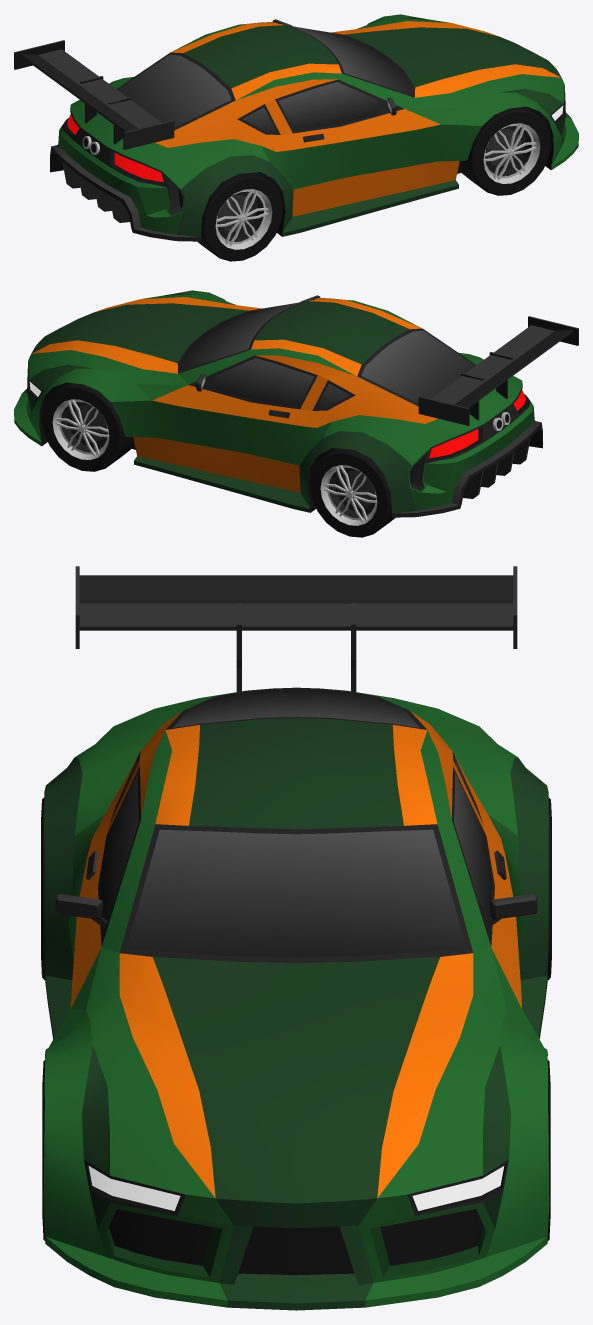
Rendered from Car_128.glb.
3 views of the same model, one above another, from view 1: azimuth 30°, elevation 25°; view 2: azimuth 150°, elevation 25°; view 3: azimuth 270°, elevation 25° (orthographic). The views are drawn at different scales.
Parts seen in each view (by area): view 1: Car_128, wheel_1_Car_128_Wheel_1R, wheel_3_Car_128_Wheel_2R; view 2: Car_128, wheel_0_Car_128_Wheel_1L, wheel_2_Car_128_Wheel_2L; view 3: Car_128.
Part boxes in pixels (box(x1,y1,x2,y2)): Car_128: box(14, 14, 578, 241); wheel_1_Car_128_Wheel_1R: box(458, 106, 550, 195); wheel_3_Car_128_Wheel_2R: box(197, 172, 282, 261); Car_128: box(14, 290, 578, 517); wheel_0_Car_128_Wheel_1L: box(42, 382, 134, 471); wheel_2_Car_128_Wheel_2L: box(310, 448, 395, 537); Car_128: box(43, 566, 549, 1310).
Size of the model in its own units: 4.66 by 1.36 by 2.11.
Materials: 3 (3 with a texture image).
